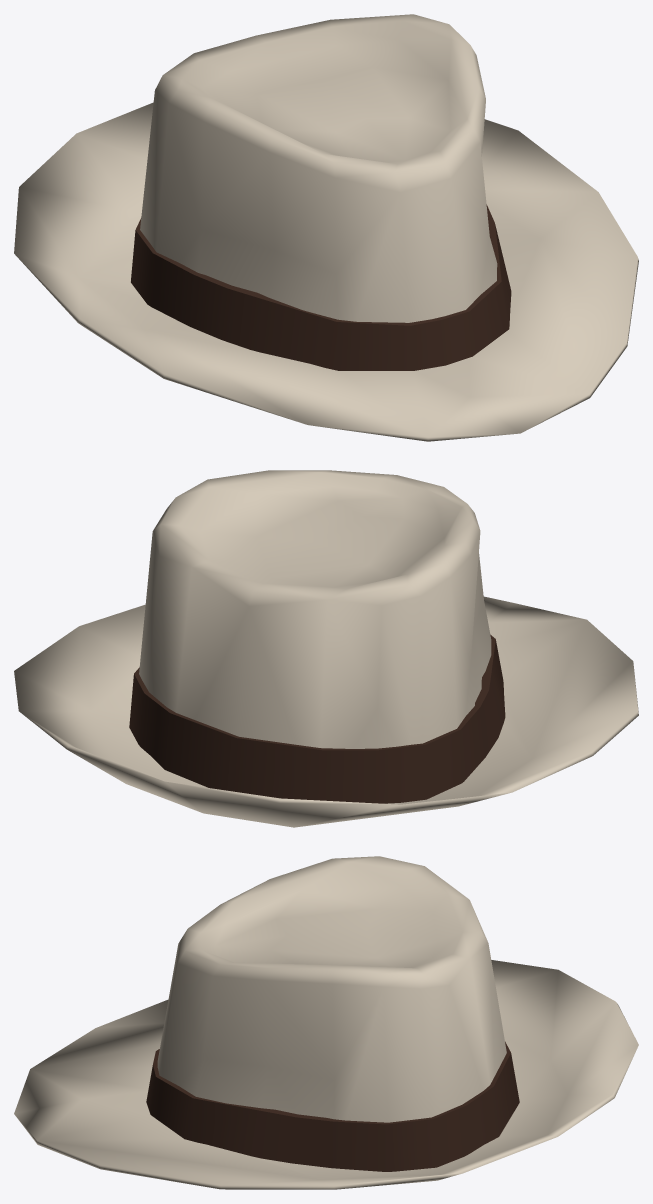
File: SirHat.fbx
3 renders of one model, top to bottom at view 1: azimuth 30°, elevation 25°; view 2: azimuth 150°, elevation 25°; view 3: azimuth 270°, elevation 25°, orthographic. The views are drawn at different scales.
Visible parts, largest first — view 1: chapeau_Plane, strip_Plane.001; view 2: chapeau_Plane, strip_Plane.001; view 3: chapeau_Plane, strip_Plane.001.
Boxes of the visible parts, x1=… form: chapeau_Plane: x1=14, y1=14, x2=638, y2=441; strip_Plane.001: x1=131, y1=204, x2=511, y2=370; chapeau_Plane: x1=14, y1=470, x2=638, y2=827; strip_Plane.001: x1=129, y1=634, x2=505, y2=803; chapeau_Plane: x1=14, y1=856, x2=638, y2=1189; strip_Plane.001: x1=146, y1=1041, x2=519, y2=1171.
Bounding box in the file's own units: 3610 × 1495 × 4233.
